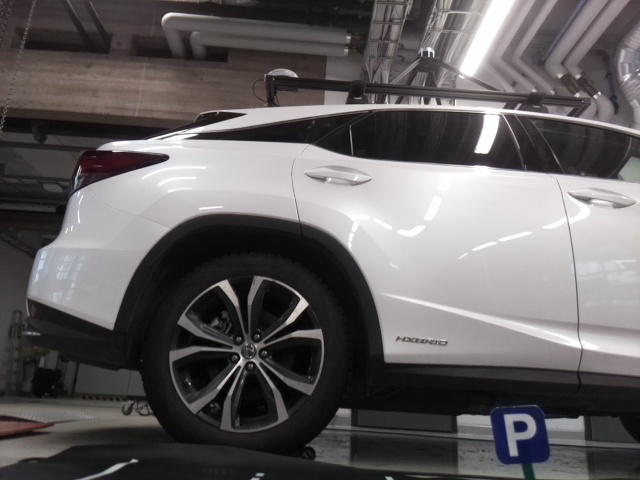Parking: (487, 407, 548, 462)
